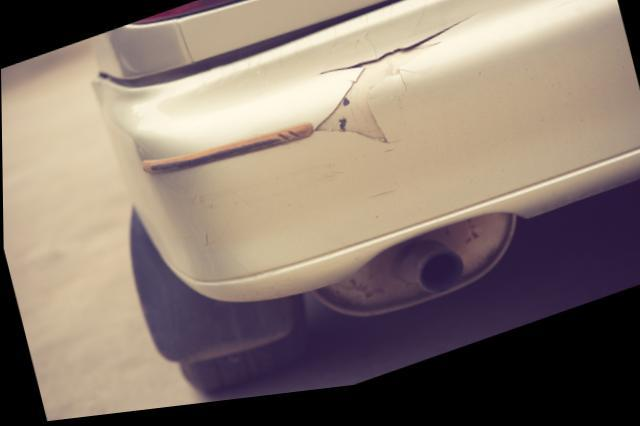crack: (311, 22, 480, 154)
